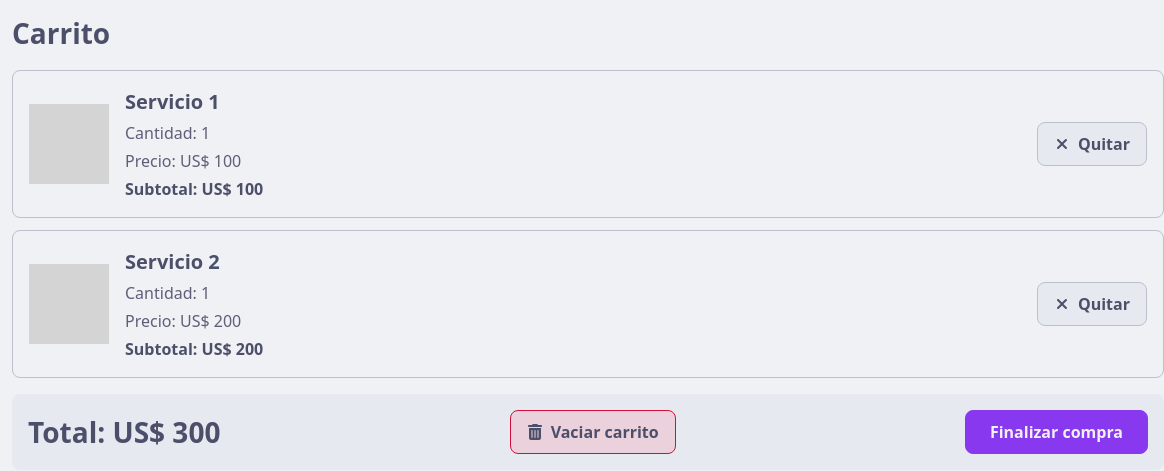
Test: CartPage › clears the cart
Click the button "Vaciar carrito".
click(593, 432)  # box [510, 410, 676, 454]
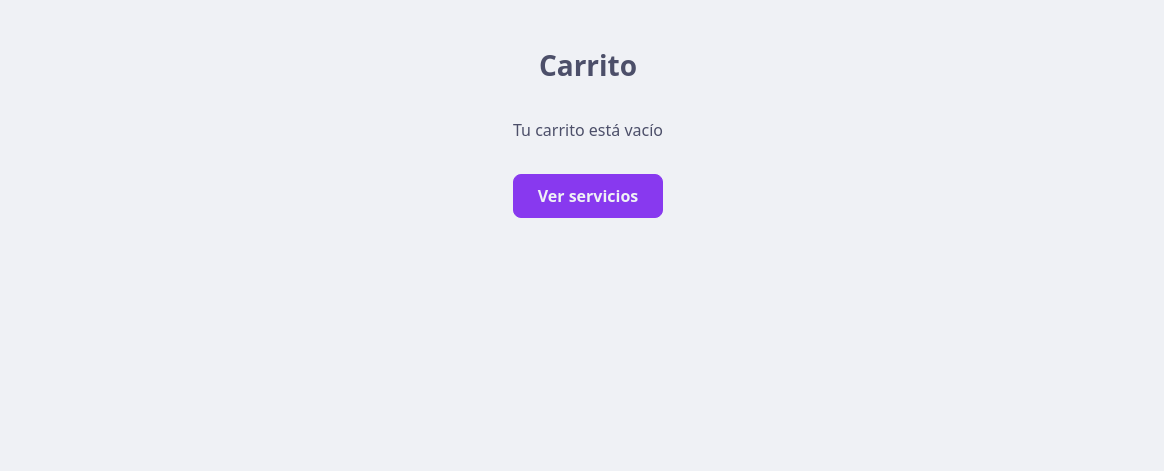
Expected: the text "Tu carrito está vacío" is shown, [513, 118, 663, 142]
